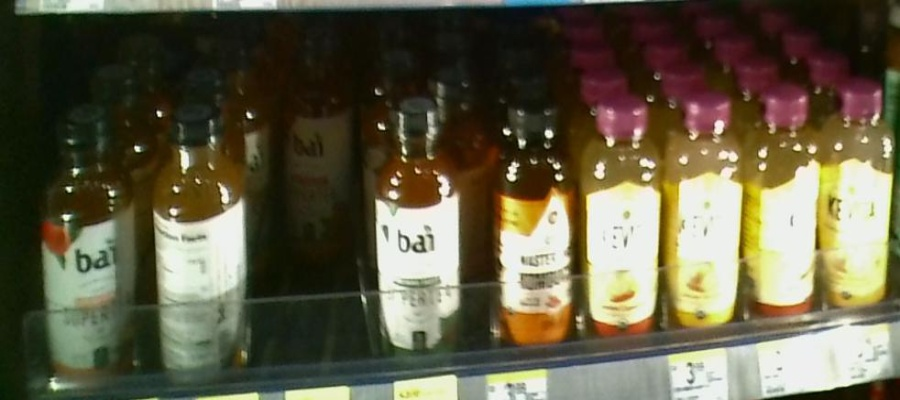bottle: (39, 103, 140, 381), (148, 107, 247, 380), (494, 95, 580, 351), (374, 95, 457, 351), (584, 84, 663, 349), (664, 78, 741, 326), (745, 85, 823, 324), (825, 73, 897, 317), (281, 32, 356, 266)
